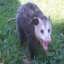opossum: (7, 2, 52, 60)
